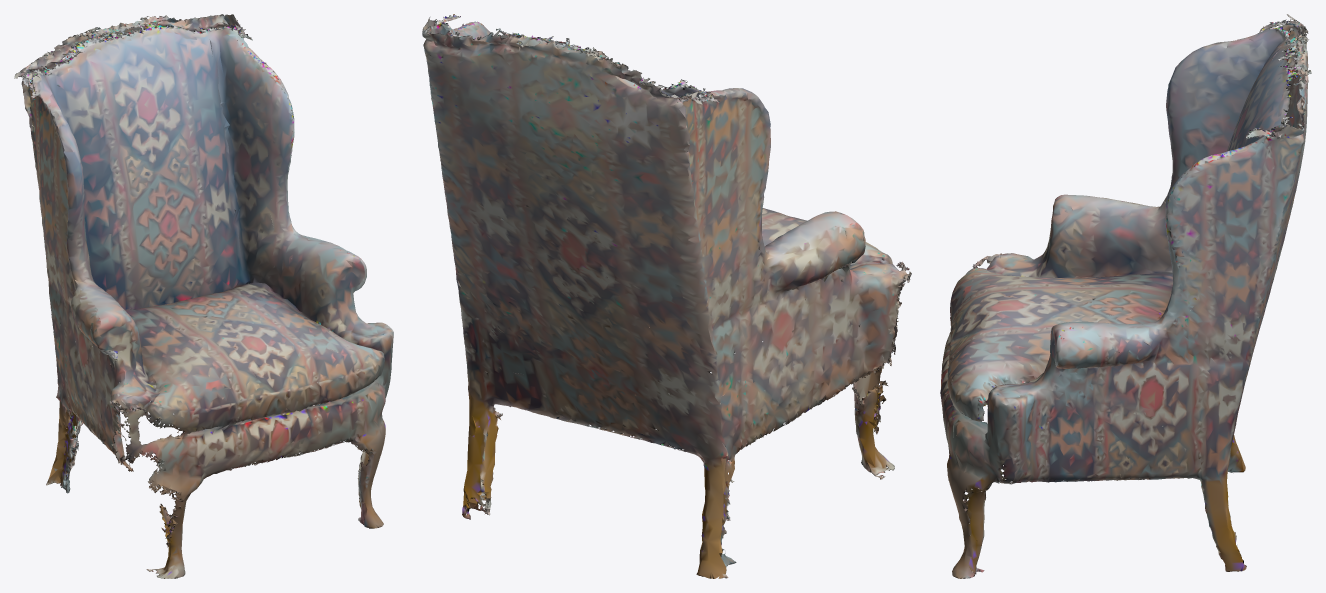
Rendered from obj_high_back_chair_a4d6a4.glb.
3 views of the same model, side by side, from view 1: azimuth 30°, elevation 25°; view 2: azimuth 150°, elevation 25°; view 3: azimuth 270°, elevation 25° (orthographic). The views are drawn at different scales.
Parts seen in each view (by area): view 1: obj_high_back_chair_a4d6a4; view 2: obj_high_back_chair_a4d6a4; view 3: obj_high_back_chair_a4d6a4.
Boxes of the visible parts, bbox=[...] form: obj_high_back_chair_a4d6a4: bbox=[14, 14, 393, 578]; obj_high_back_chair_a4d6a4: bbox=[422, 14, 911, 578]; obj_high_back_chair_a4d6a4: bbox=[940, 14, 1311, 578].
Size of the model in its own units: 0.6048 by 0.85 by 0.6108.
